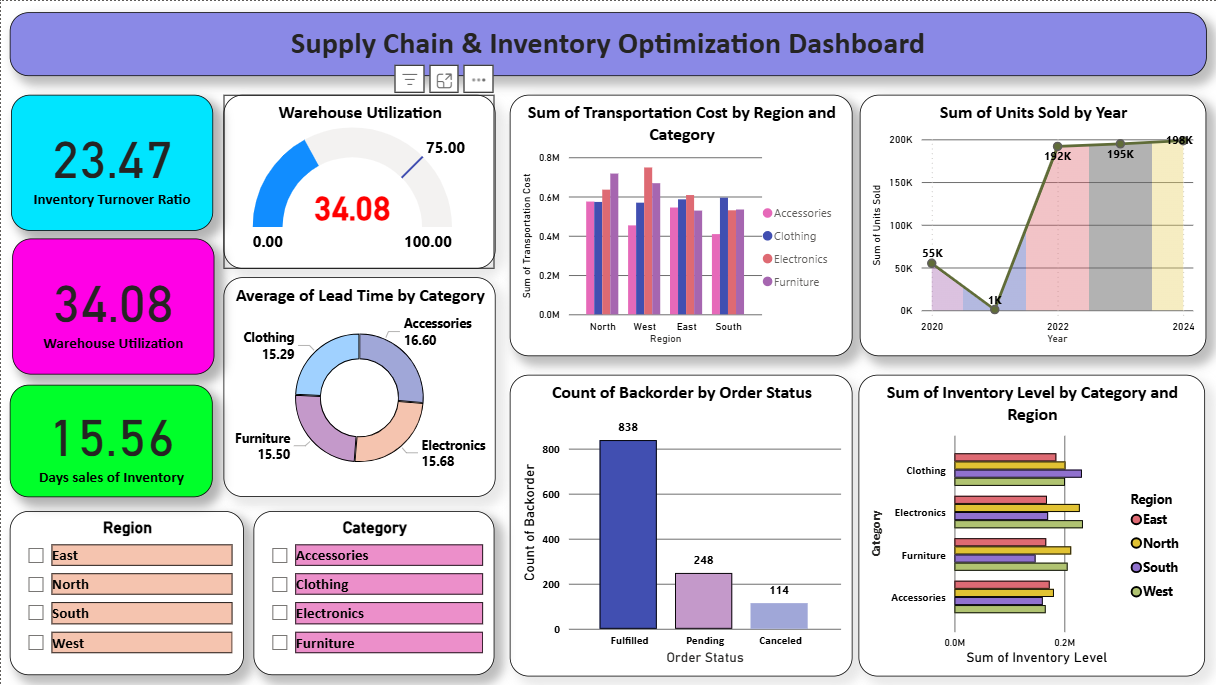

The dashboard page shown, as its layout file describes it:
{"tool":"powerbi","page":{"name":"Page 1","canvas":[1280,720],"ordinal":0},"visuals":[{"type":"textbox","box":[8.7,12.4,1260.1,67.2],"z":0},{"type":"gauge","fields":{"Y":["Inventory and Supply Chain Dataset.Warehouse Utilization"]},"box":[233.9,98.3,286.1,182.9],"z":1000},{"type":"donutChart","fields":{"Y":["Avg(Inventory and Supply Chain Dataset.Lead Time)"],"Category":["Inventory and Supply Chain Dataset.Category"]},"box":[233.9,291.1,286.1,231.4],"z":2000},{"type":"clusteredColumnChart","fields":{"Y":["Sum(Inventory and Supply Chain Dataset.Transportation Cost)"],"Category":["Inventory and Supply Chain Dataset.Region"],"Series":["Inventory and Supply Chain Dataset.Category"]},"box":[536.1,98.3,360.7,274.9],"z":3000},{"type":"lineChart","fields":{"Y":["Sum(Inventory and Supply Chain Dataset.Units Sold)"],"Category":["Inventory and Supply Chain Dataset.Date.Variation.Date Hierarchy.Year"]},"box":[904.4,98.3,364.5,274.9],"z":4000},{"type":"columnChart","fields":{"Y":["CountNonNull(Inventory and Supply Chain Dataset.Backorder)"],"Category":["Inventory and Supply Chain Dataset.Order Status"]},"box":[536.1,393.1,360.7,317.2],"z":5000},{"type":"clusteredBarChart","fields":{"Y":["Sum(Inventory and Supply Chain Dataset.Inventory Level)"],"Category":["Inventory and Supply Chain Dataset.Category"],"Series":["Inventory and Supply Chain Dataset.Region"]},"box":[903.1,393.1,364.5,317.2],"z":6000},{"type":"card","fields":{"Values":["Inventory and Supply Chain Dataset.Inventory Turnover Ratio"]},"box":[10,98.3,212.7,143.1],"z":7000},{"type":"slicer","title":"Region","fields":{"Values":["Inventory and Supply Chain Dataset.Region"]},"box":[8.7,537.4,246.3,172.9],"z":8000},{"type":"card","fields":{"Values":["Inventory and Supply Chain Dataset.Warehouse Utilization"]},"box":[11.2,250,212.7,143.1],"z":9001},{"type":"card","fields":{"Values":["Inventory and Supply Chain Dataset.Days sales of Inventory"]},"box":[8.7,404.3,214,118.2],"z":9002},{"type":"slicer","title":"Category","fields":{"Values":["Inventory and Supply Chain Dataset.Category"]},"box":[266.2,537.4,253.8,172.9],"z":9003}]}

Visuals, with their boxes in screenshot pixels (x1, y1, x2, y2), scaled from the page's 1280x720 canvas onto the 1216x685 screenshot:
textbox: (x1=8, y1=12, x2=1205, y2=76)
gauge - Inventory and Supply Chain Dataset.Warehouse Utilization: (x1=222, y1=94, x2=494, y2=268)
donutChart - Avg(Inventory and Supply Chain Dataset.Lead Time) x Inventory and Supply Chain Dataset.Category: (x1=222, y1=277, x2=494, y2=497)
clusteredColumnChart - Sum(Inventory and Supply Chain Dataset.Transportation Cost) x Inventory and Supply Chain Dataset.Region: (x1=509, y1=94, x2=852, y2=355)
lineChart - Sum(Inventory and Supply Chain Dataset.Units Sold) x Inventory and Supply Chain Dataset.Date.Variation.Date Hierarchy.Year: (x1=859, y1=94, x2=1205, y2=355)
columnChart - CountNonNull(Inventory and Supply Chain Dataset.Backorder) x Inventory and Supply Chain Dataset.Order Status: (x1=509, y1=374, x2=852, y2=676)
clusteredBarChart - Sum(Inventory and Supply Chain Dataset.Inventory Level) x Inventory and Supply Chain Dataset.Category: (x1=858, y1=374, x2=1204, y2=676)
card - Inventory and Supply Chain Dataset.Inventory Turnover Ratio: (x1=10, y1=94, x2=212, y2=230)
"Region" slicer: (x1=8, y1=511, x2=242, y2=676)
card - Inventory and Supply Chain Dataset.Warehouse Utilization: (x1=11, y1=238, x2=213, y2=374)
card - Inventory and Supply Chain Dataset.Days sales of Inventory: (x1=8, y1=385, x2=212, y2=497)
"Category" slicer: (x1=253, y1=511, x2=494, y2=676)
